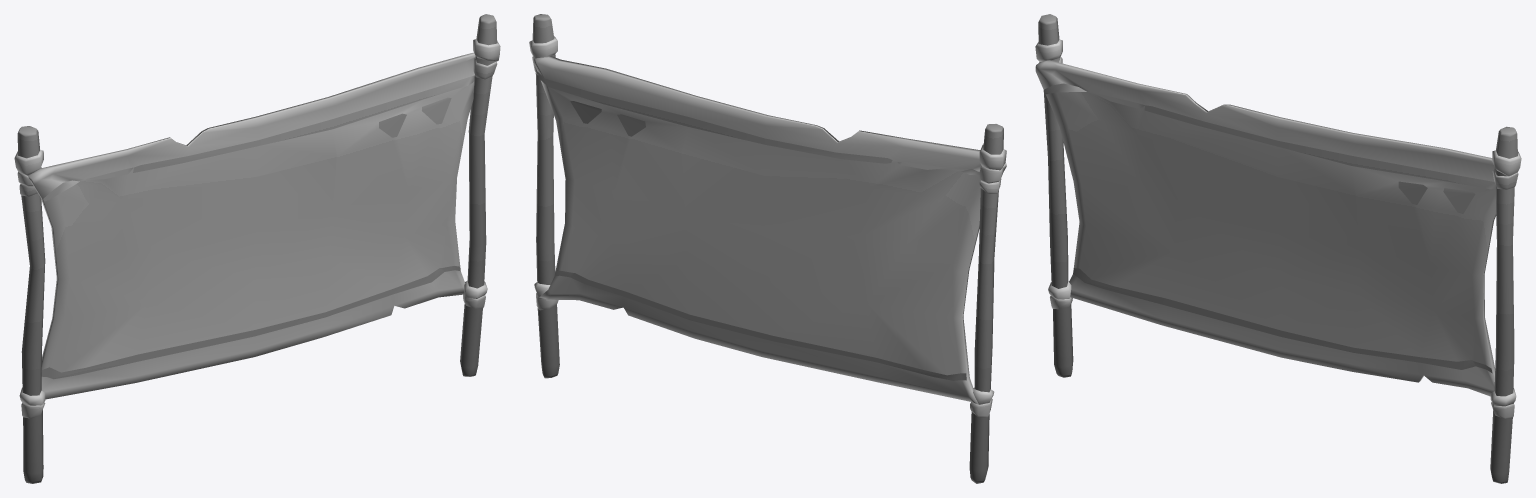
File: PropScreenGreen.glb
3 renders of one model, left to right at view 1: azimuth 30°, elevation 25°; view 2: azimuth 150°, elevation 25°; view 3: azimuth 330°, elevation 25°, orthographic.
Visible parts, largest first — view 1: PropScreenGreen; view 2: PropScreenGreen; view 3: PropScreenGreen.
Part boxes in pixels (<box>): PropScreenGreen: <box>14,14,500,483</box>; PropScreenGreen: <box>529,14,1006,483</box>; PropScreenGreen: <box>1035,14,1521,483</box>.
Bounding box in the file's own units: 35.47 × 25.27 × 2.67.
Materials: 1 (1 with a texture image).
